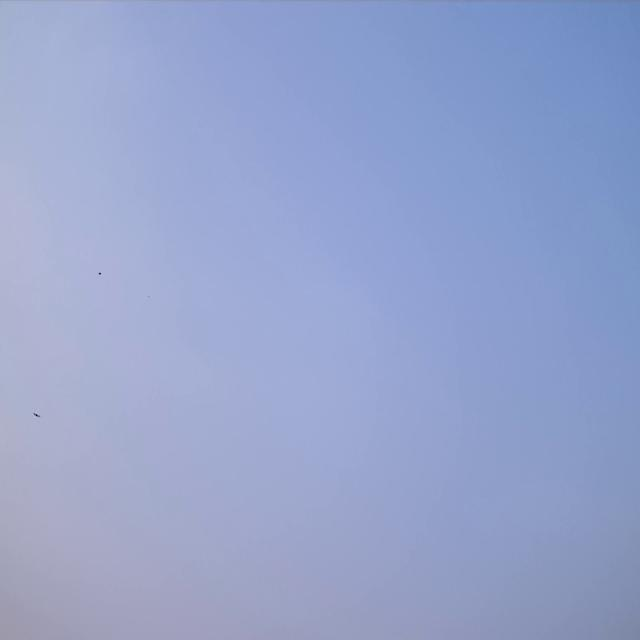UAV: (32, 412, 41, 418)
